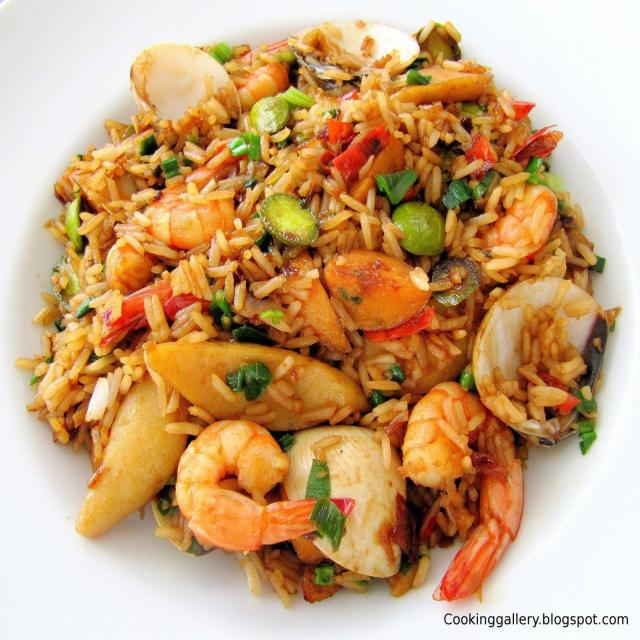Nasi Goreng: (20, 18, 614, 606)
